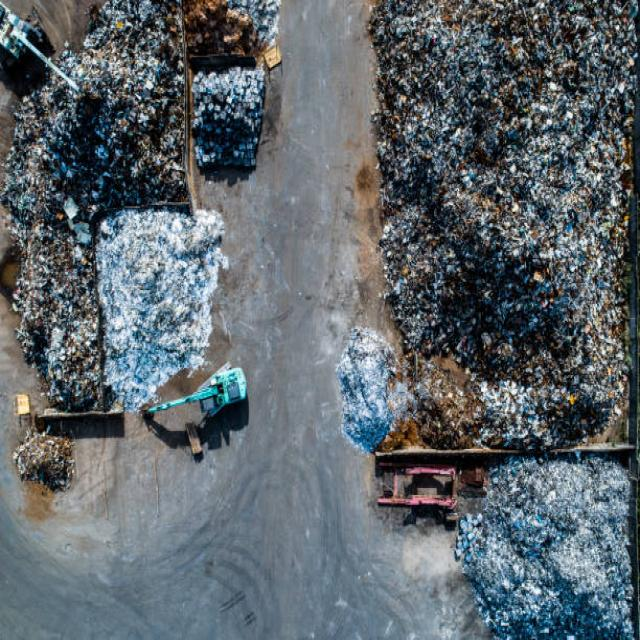trash: (373, 17, 616, 407), (16, 12, 222, 394)
